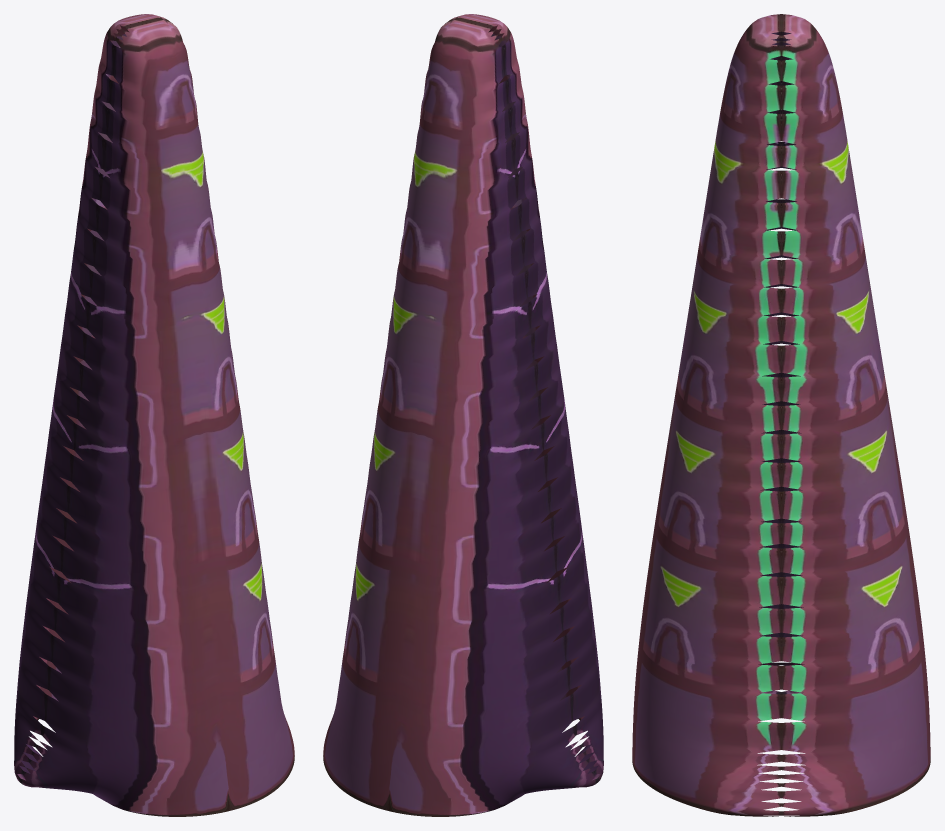
The model's file is guide_tower.glb.
The picture shows the model from 3 angles, left to right: view 1: azimuth 30°, elevation 25°; view 2: azimuth 150°, elevation 25°; view 3: azimuth 270°, elevation 25°; orthographic projection.
Visible parts, largest first — view 1: guide_tower; view 2: guide_tower; view 3: guide_tower.
Boxes of the visible parts, x1,y1,x2,y2 form: guide_tower: (14, 14, 294, 816); guide_tower: (323, 14, 603, 816); guide_tower: (632, 14, 930, 816).
Size of the model in its own units: 0.9689 by 2.69 by 0.9912.
1 material, 1 textured.
